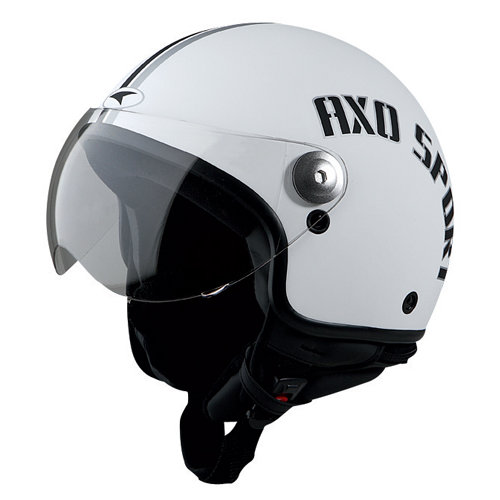helmet: (113, 34, 466, 349)
